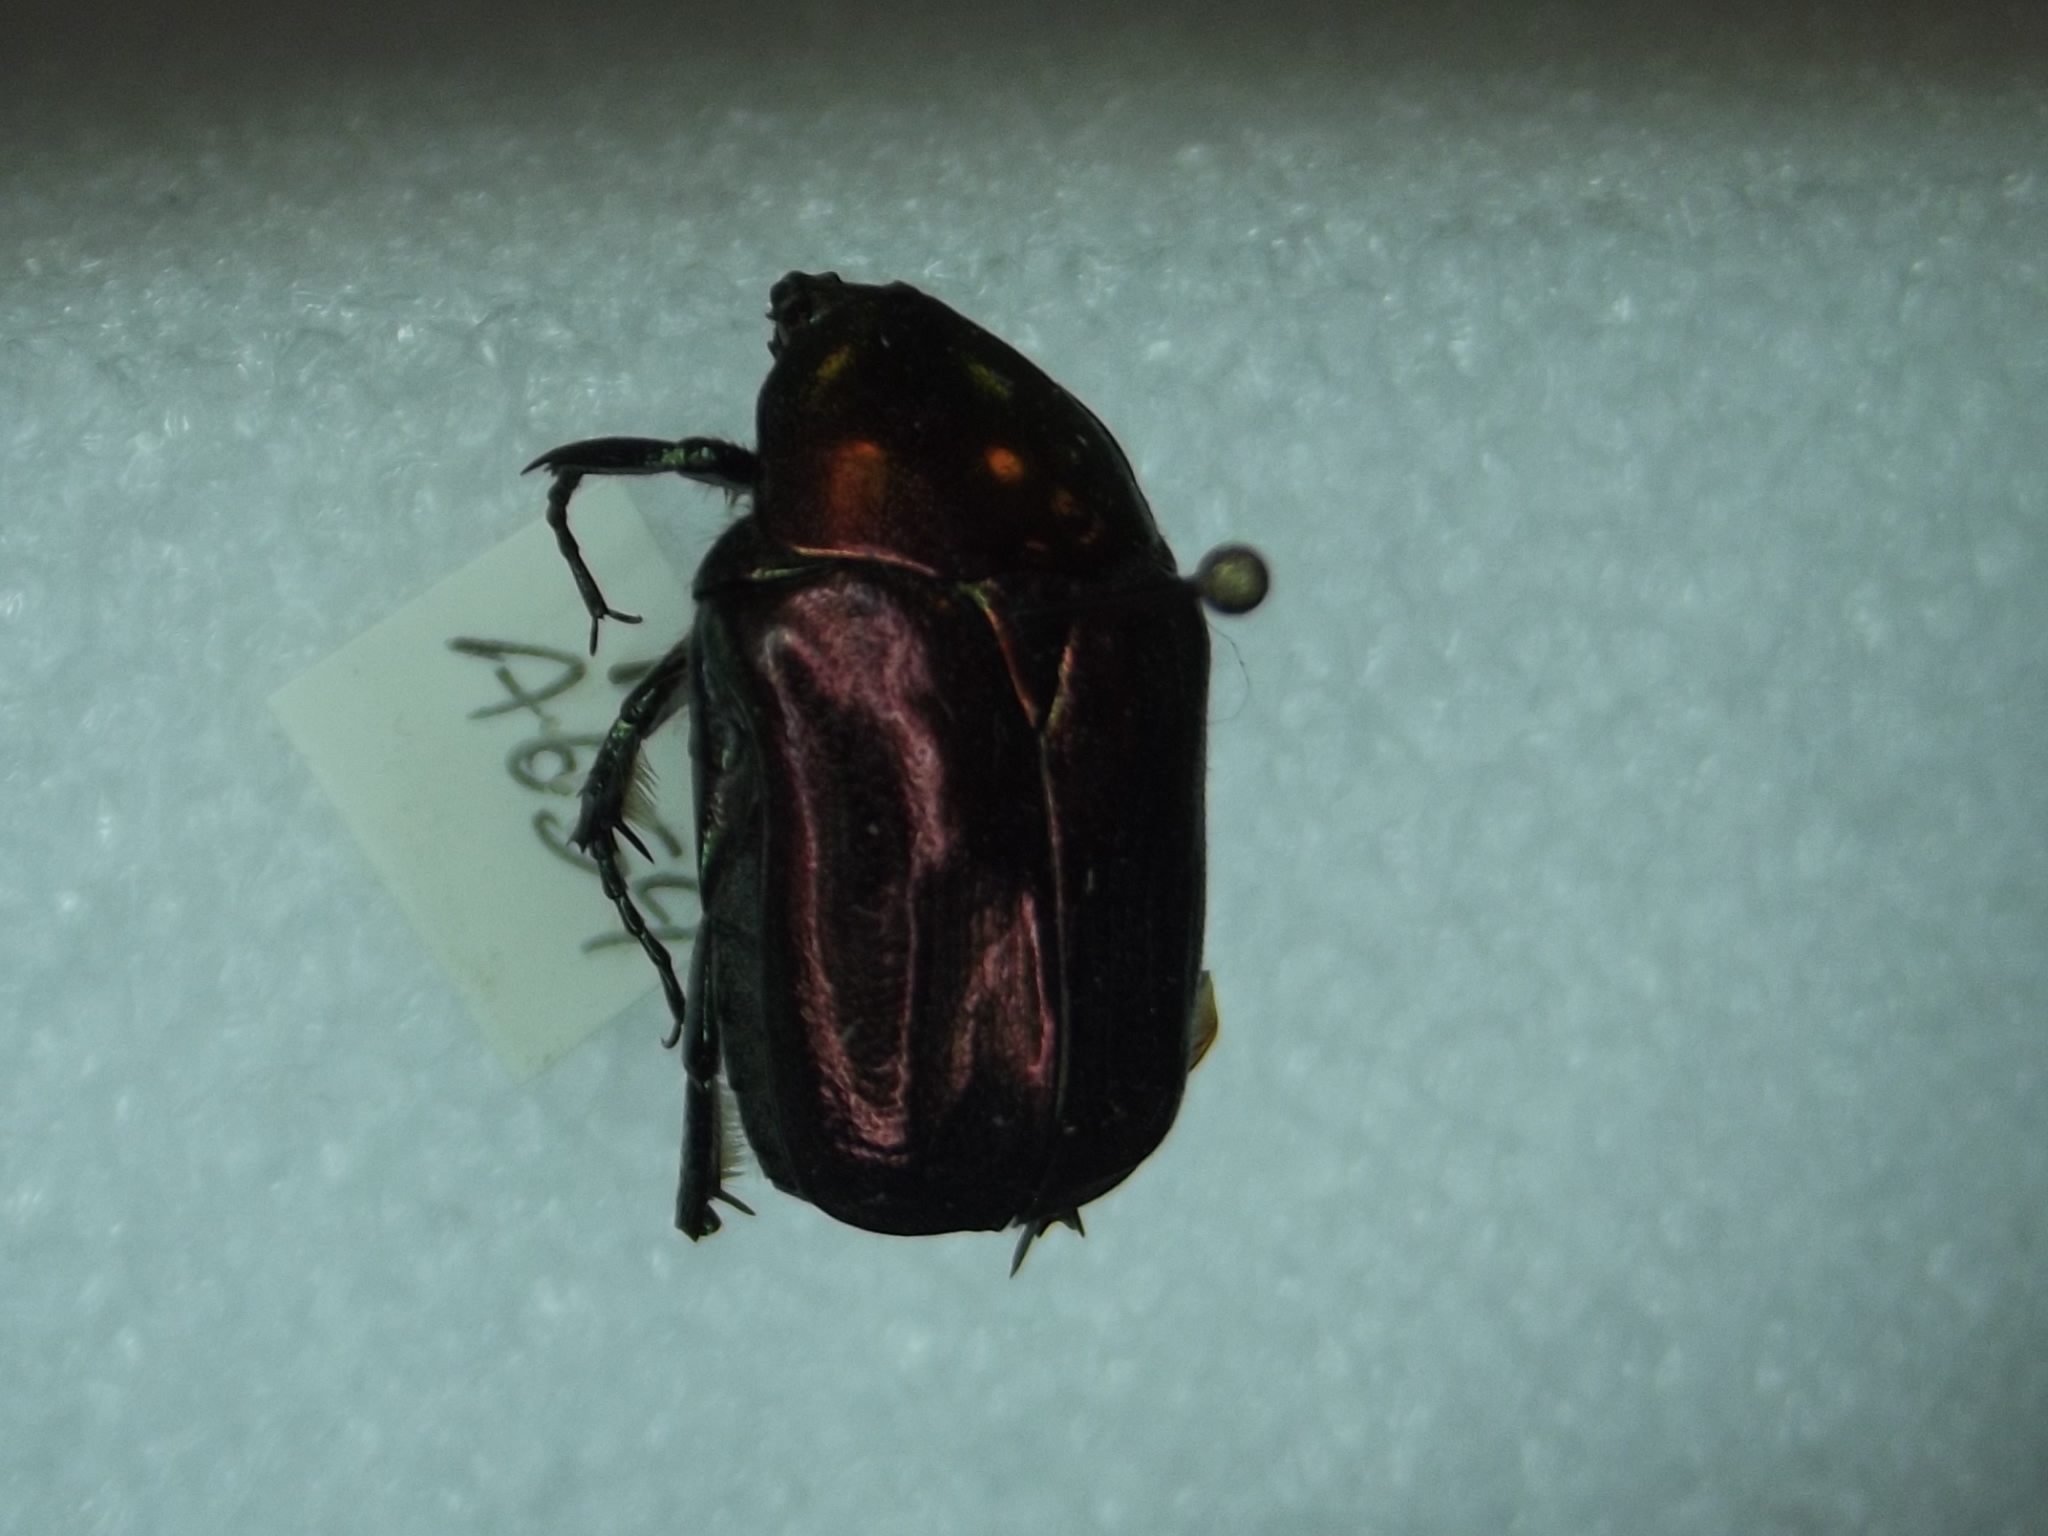Protaetia_cuprea_ignicollis: (524, 252, 1247, 1329)
